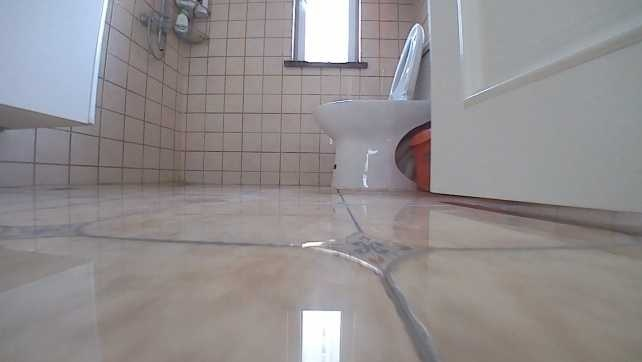toilet: (310, 20, 435, 192)
